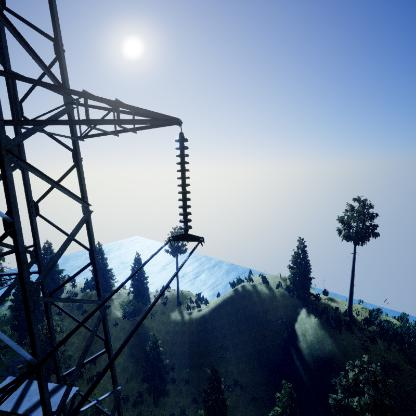insulator: (173, 132, 193, 233)
